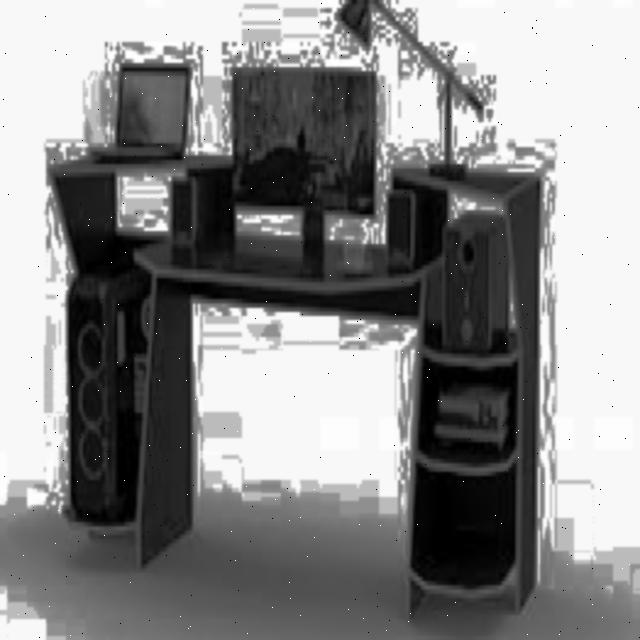paper: (378, 176, 452, 268), (162, 163, 221, 274)
table: (1, 134, 550, 640)
